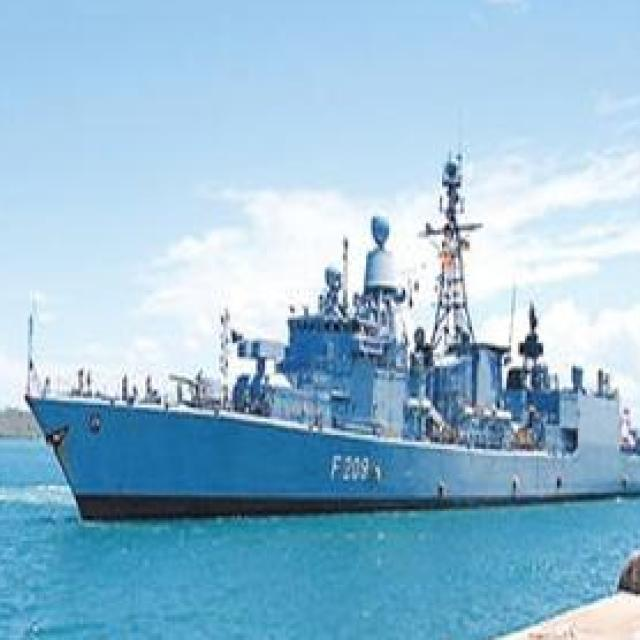navalvessels: (20, 140, 640, 517)
